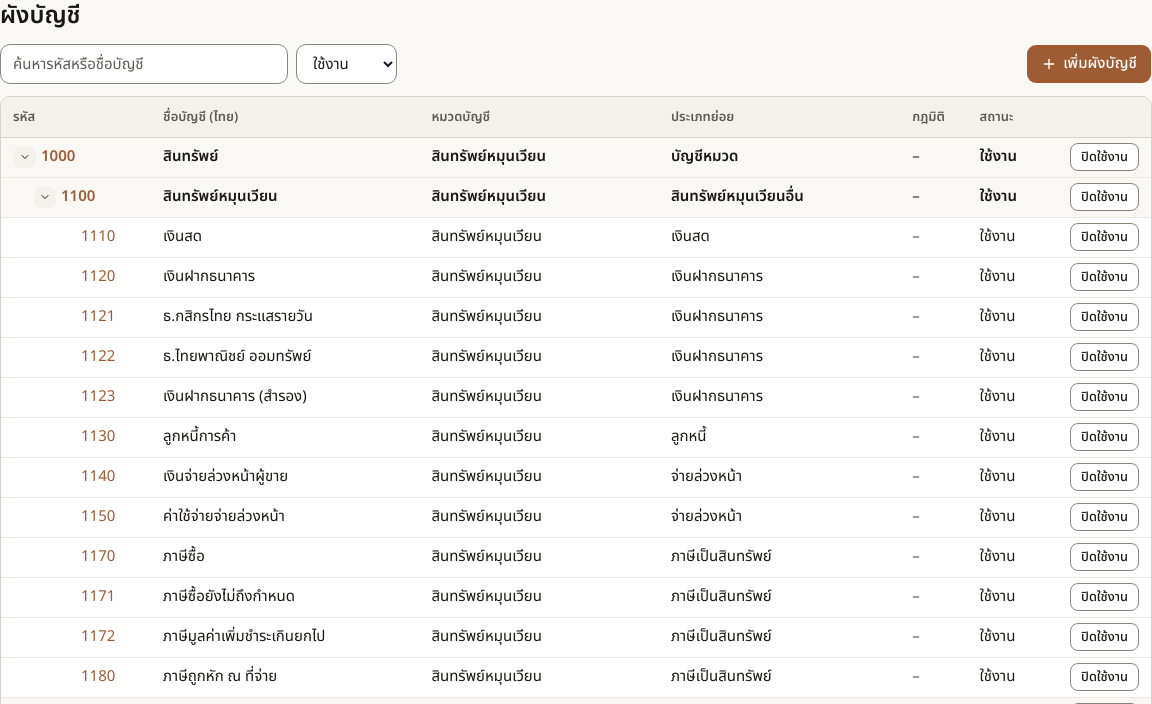
Scenario: TreeRecordList › search keeps the ancestors of a match visible
Expected: the row "1130 " is shown, [1,417,1151,457]
Type "1130" into the search field labelled "ค้นหา".
click(144, 64); type("1130")  # box [0,44,288,84]
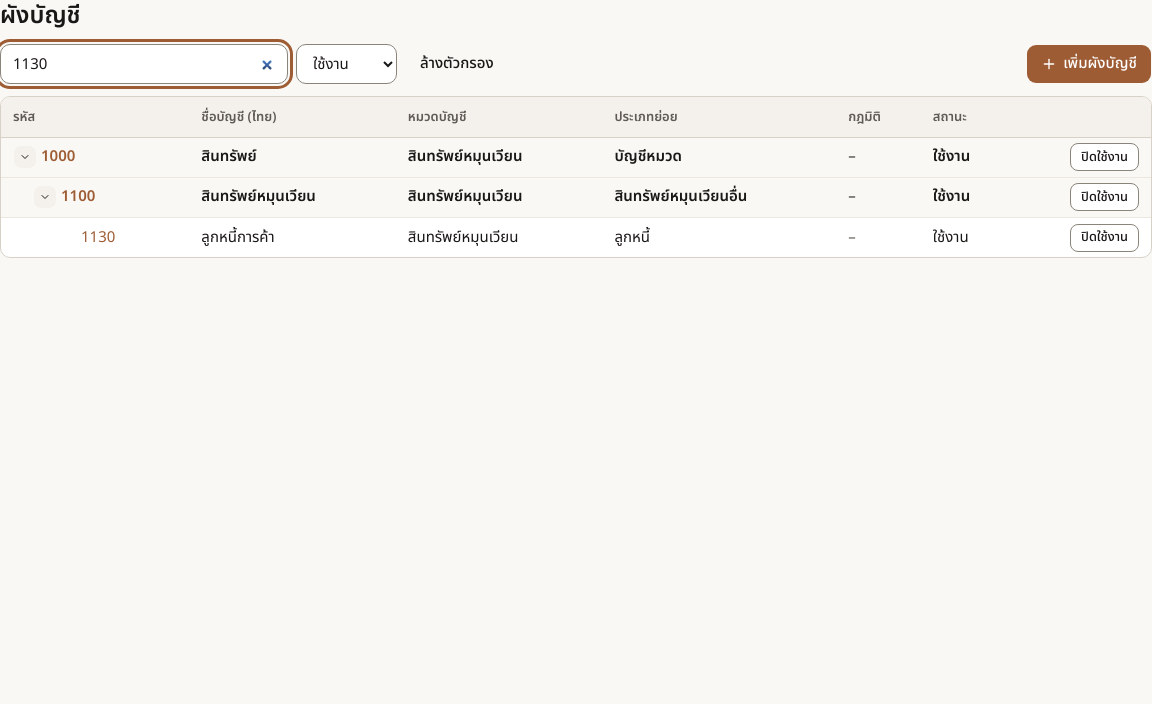
Expected: the row "1130 " is shown, [1,217,1151,257]
Now the button "1110 " is gone
